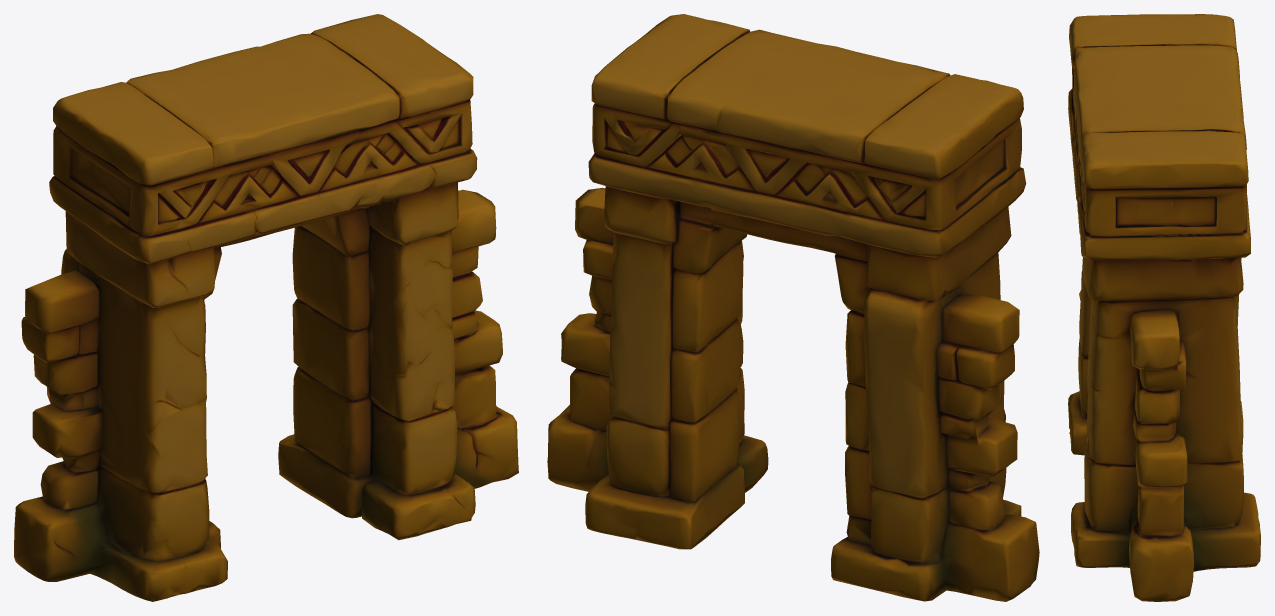
Rendered from corridor.glb.
3 views of the same model, side by side, from view 1: azimuth 30°, elevation 25°; view 2: azimuth 150°, elevation 25°; view 3: azimuth 270°, elevation 25° (orthographic). The views are drawn at different scales.
Visible parts, largest first — view 1: tripo_mesh_7a08f741-96de-4596-be58-65d61927fd26; view 2: tripo_mesh_7a08f741-96de-4596-be58-65d61927fd26; view 3: tripo_mesh_7a08f741-96de-4596-be58-65d61927fd26.
Boxes of the visible parts, x1=… form: tripo_mesh_7a08f741-96de-4596-be58-65d61927fd26: x1=14, y1=14, x2=518, y2=601; tripo_mesh_7a08f741-96de-4596-be58-65d61927fd26: x1=547, y1=14, x2=1039, y2=601; tripo_mesh_7a08f741-96de-4596-be58-65d61927fd26: x1=1068, y1=14, x2=1260, y2=601.
Size of the model in its own units: 1 by 0.8983 by 0.3867.
1 material, 1 textured.
